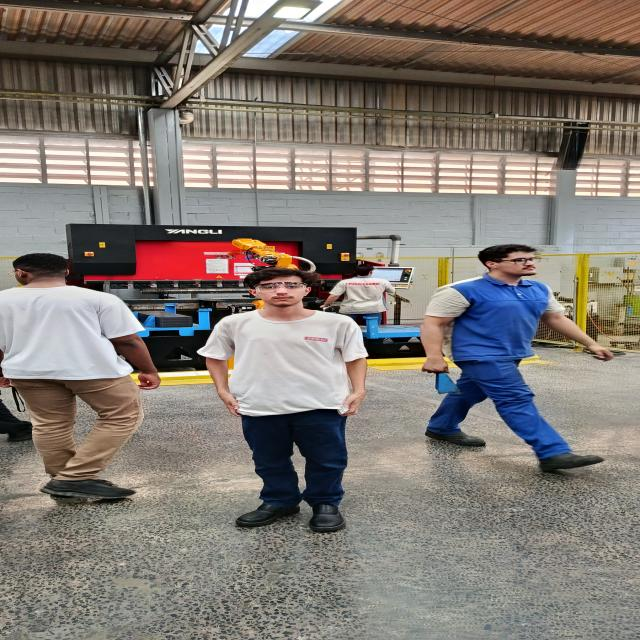oculos-epi: (254, 283, 307, 292)
sem_oculos: (482, 256, 565, 266), (0, 262, 30, 277)
